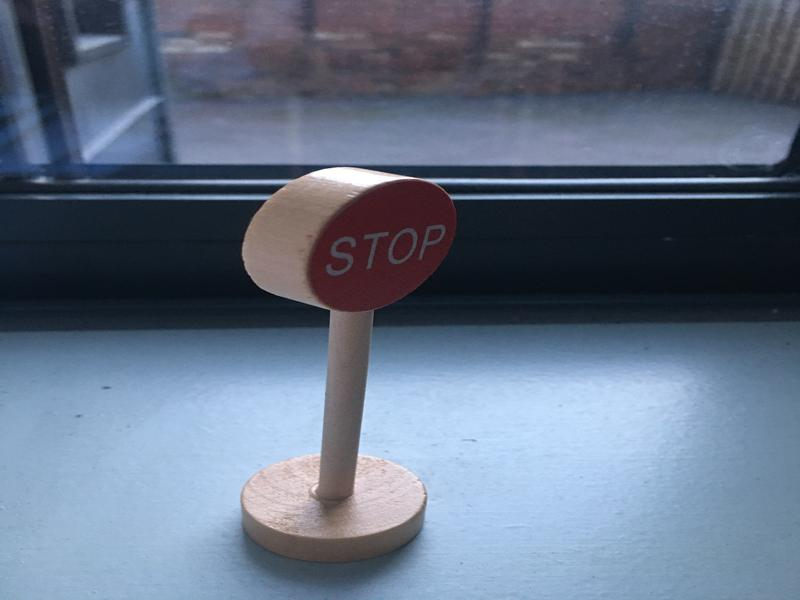Traffic_Sign_Stop: (309, 181, 455, 313)
